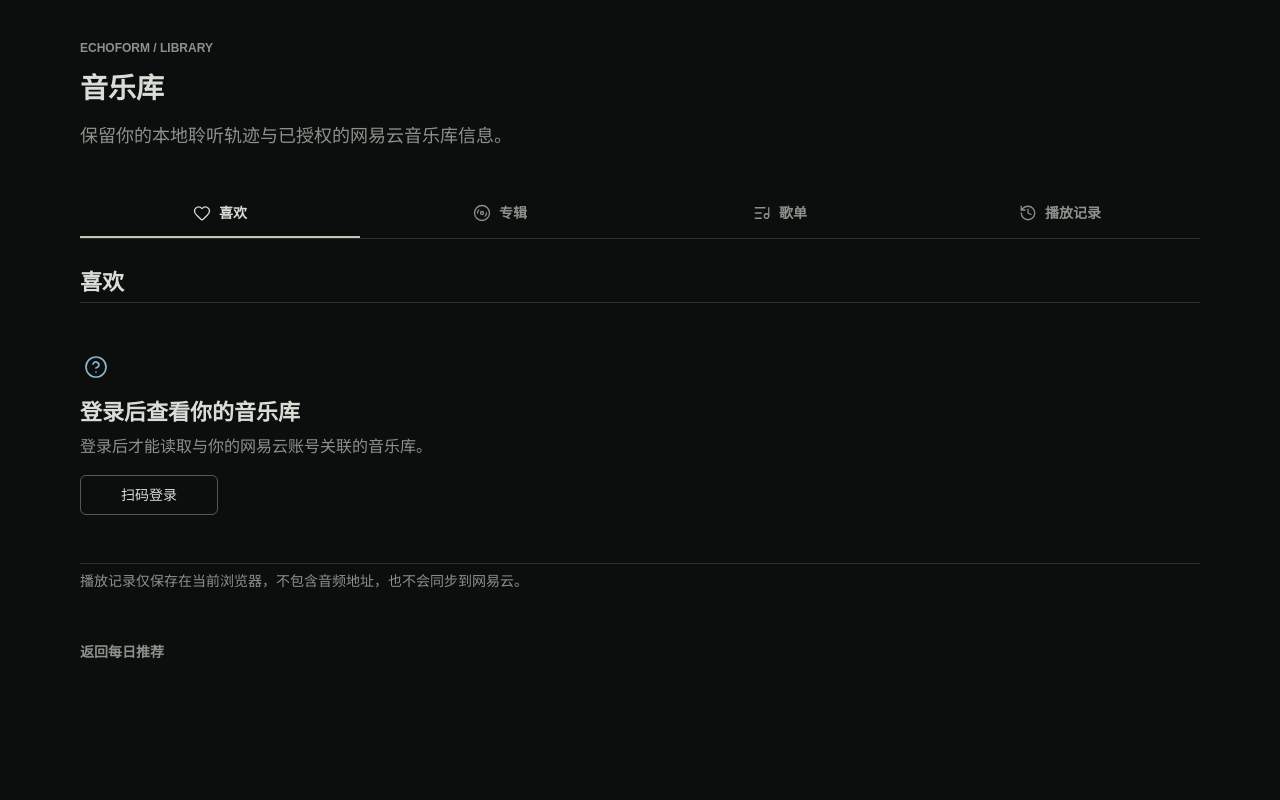
Test: LibraryExperience › keeps local history unchanged when clearing is cancelled or escaped
The image size is (1280, 800).
Click the tab "播放记录" at [1060, 214], box [920,190,1200,238]
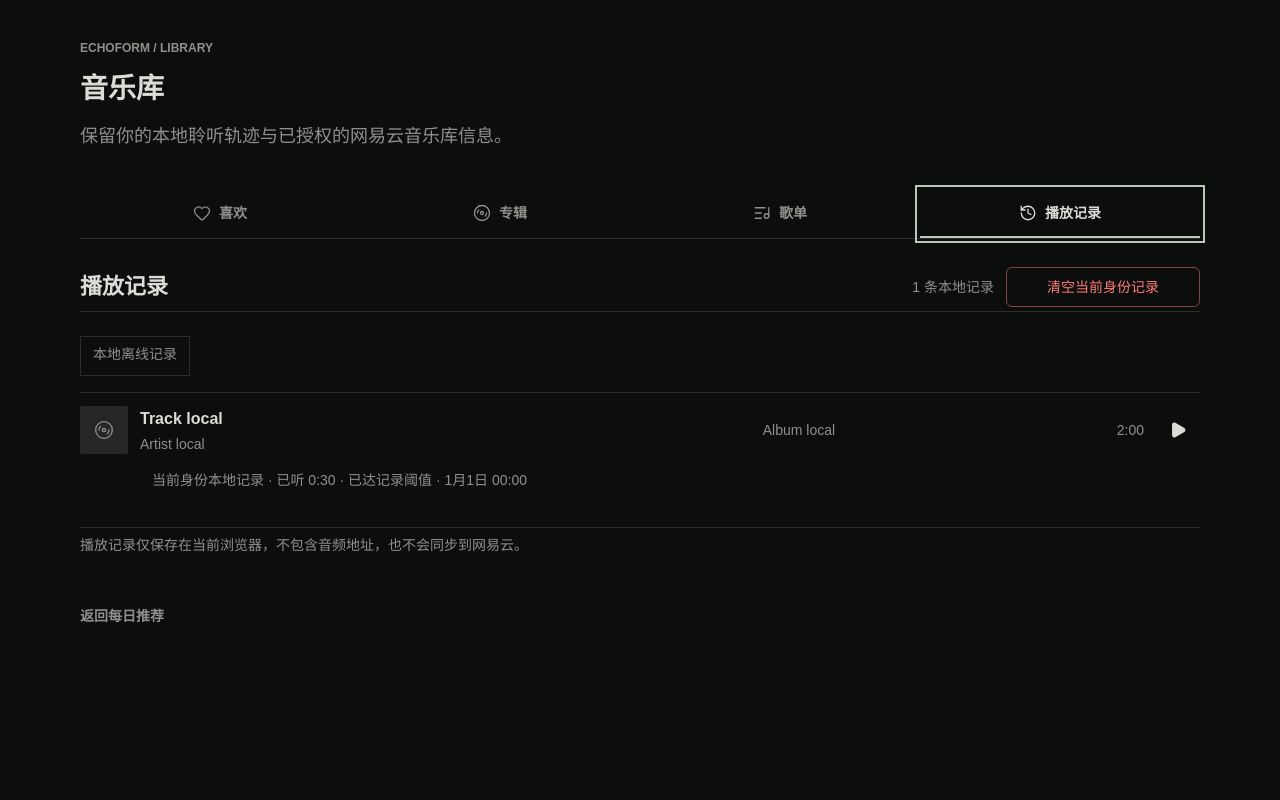
Click the button "清空当前身份记录" at [1103, 287], box [1006,267,1200,307]
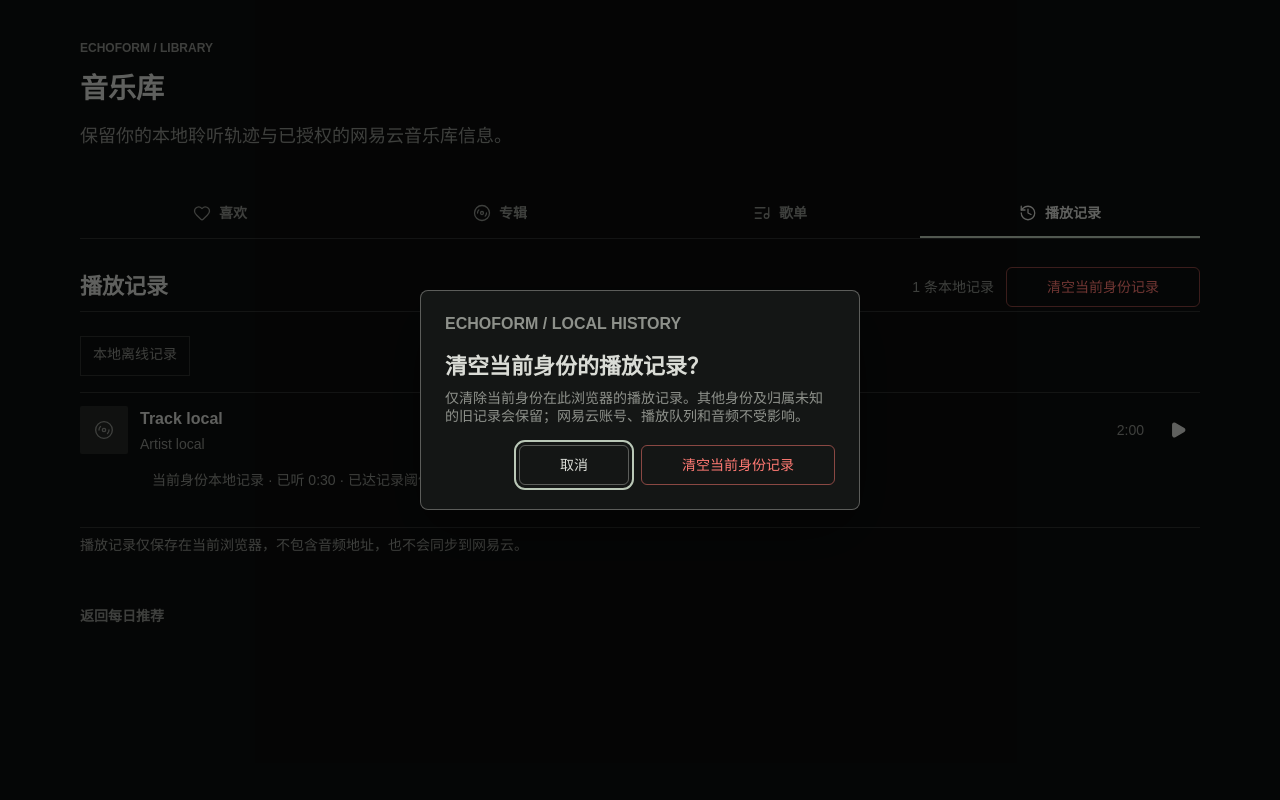
Expected: the dialog "清空当前身份的播放记录？" shows "其他身份及归属未知的旧记录会保留", [445,390,823,424]
Click the button "取消" at [574, 465], box [519,445,629,485]
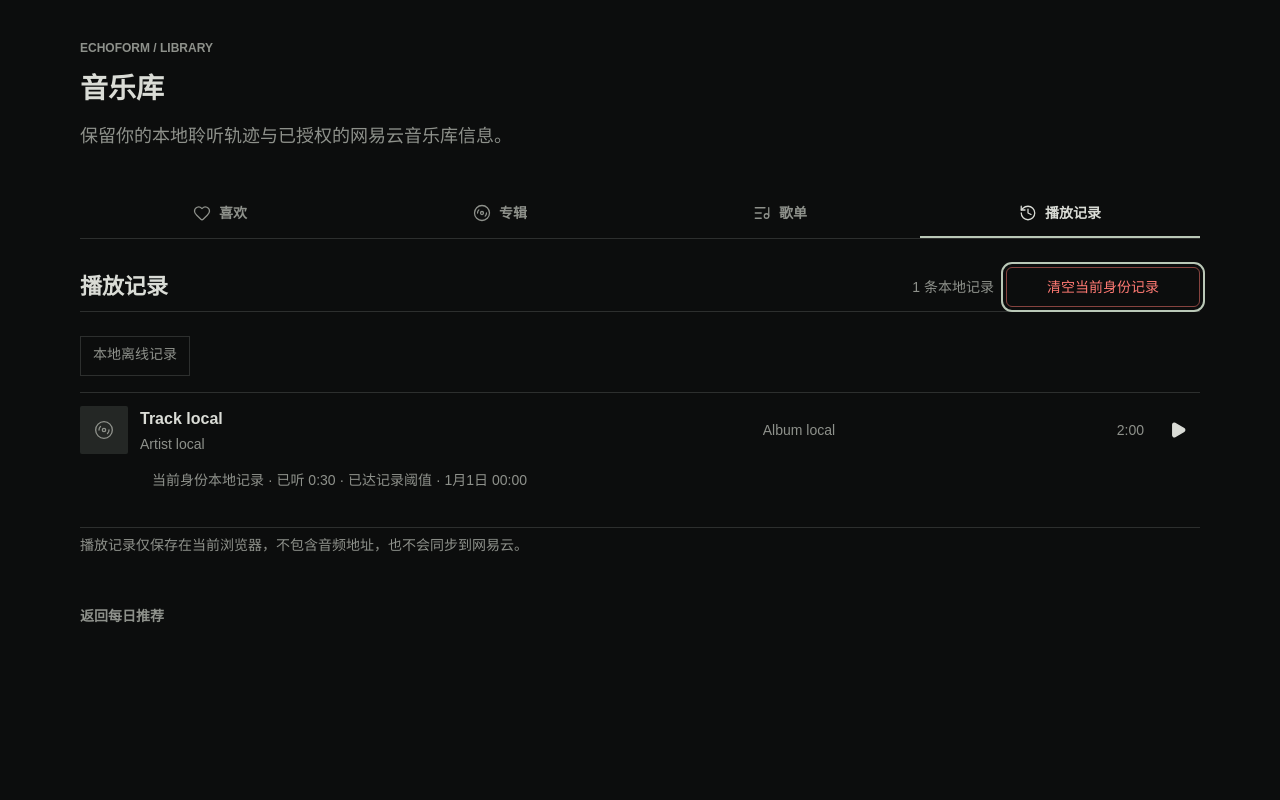
Expected: the text "Track local" is shown, [140,407,223,431]
Click the button "清空当前身份记录" at [1103, 287], box [1006,267,1200,307]
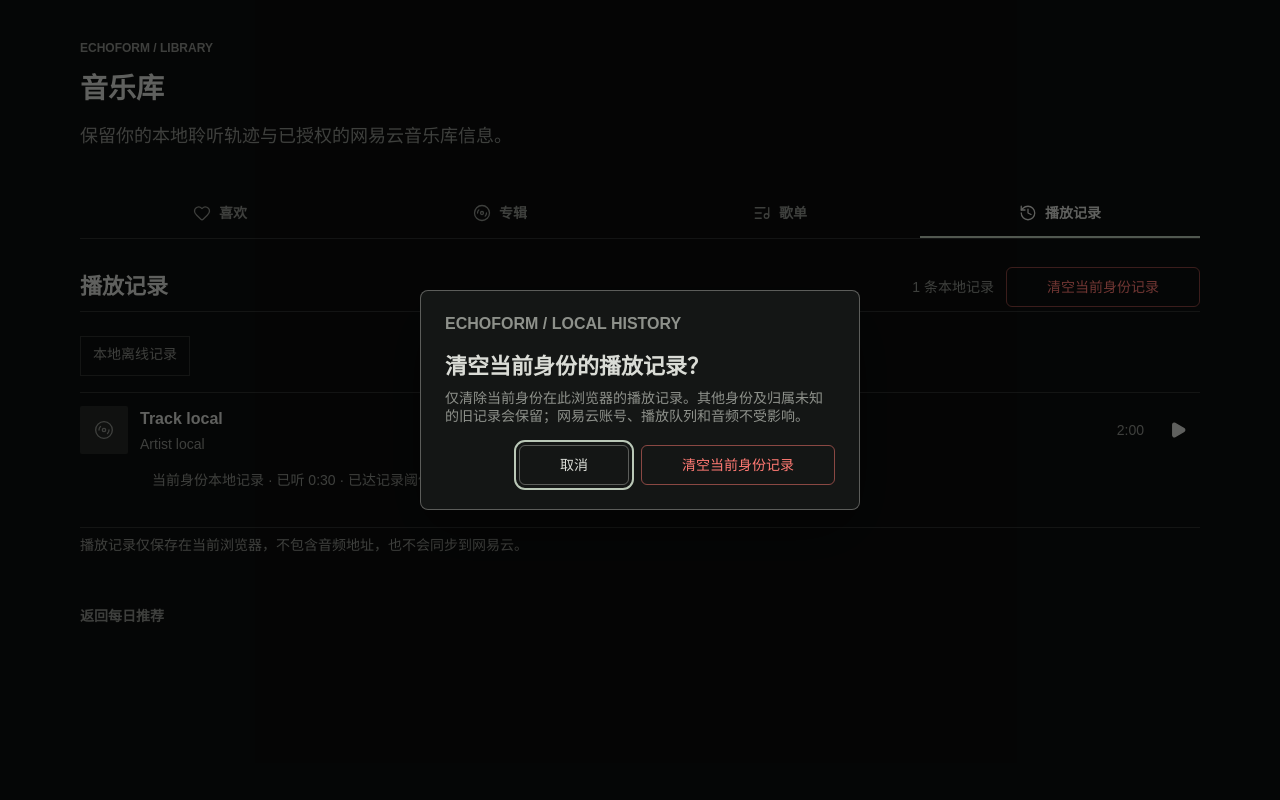
Expected: the dialog "清空当前身份的播放记录？" is shown, [420,290,860,510]
Press Escape
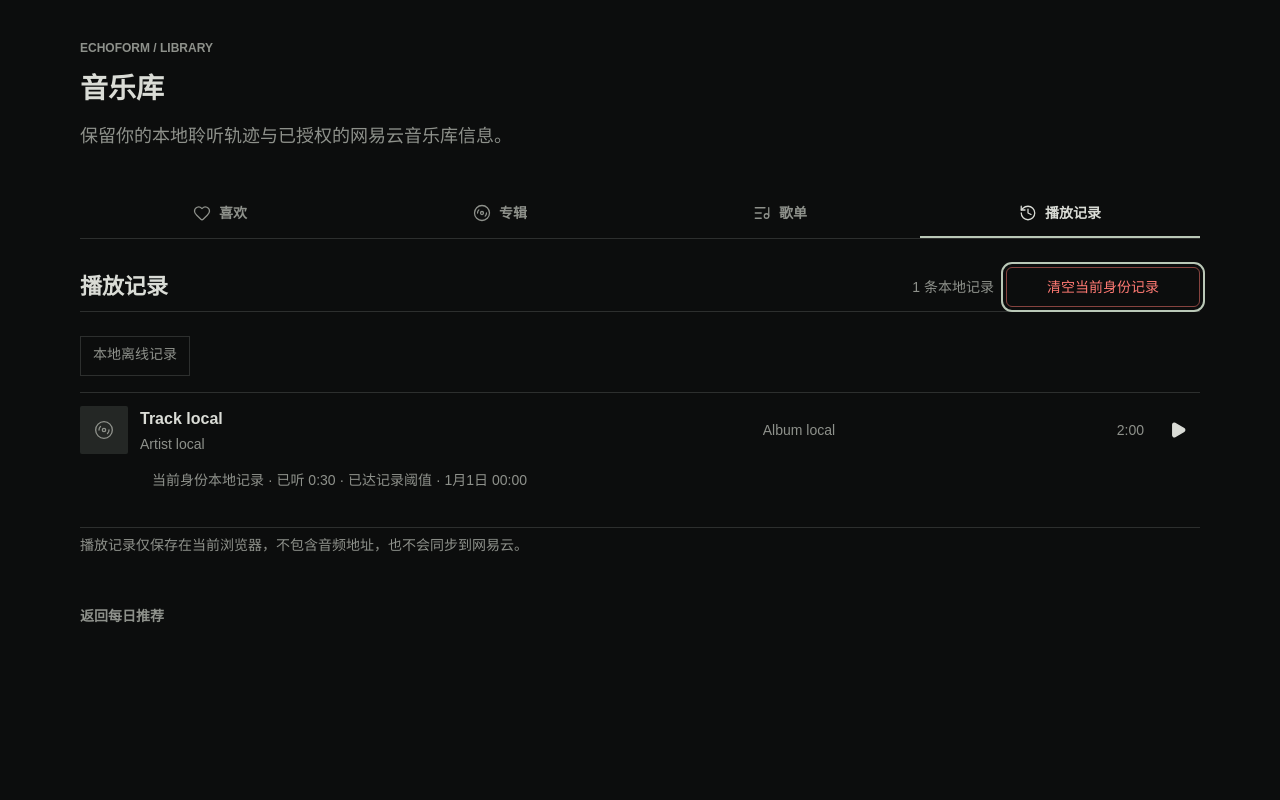
Expected: the text "Track local" is shown, [140,407,223,431]
Expected: the heading "清空当前身份的播放记录？" is gone
